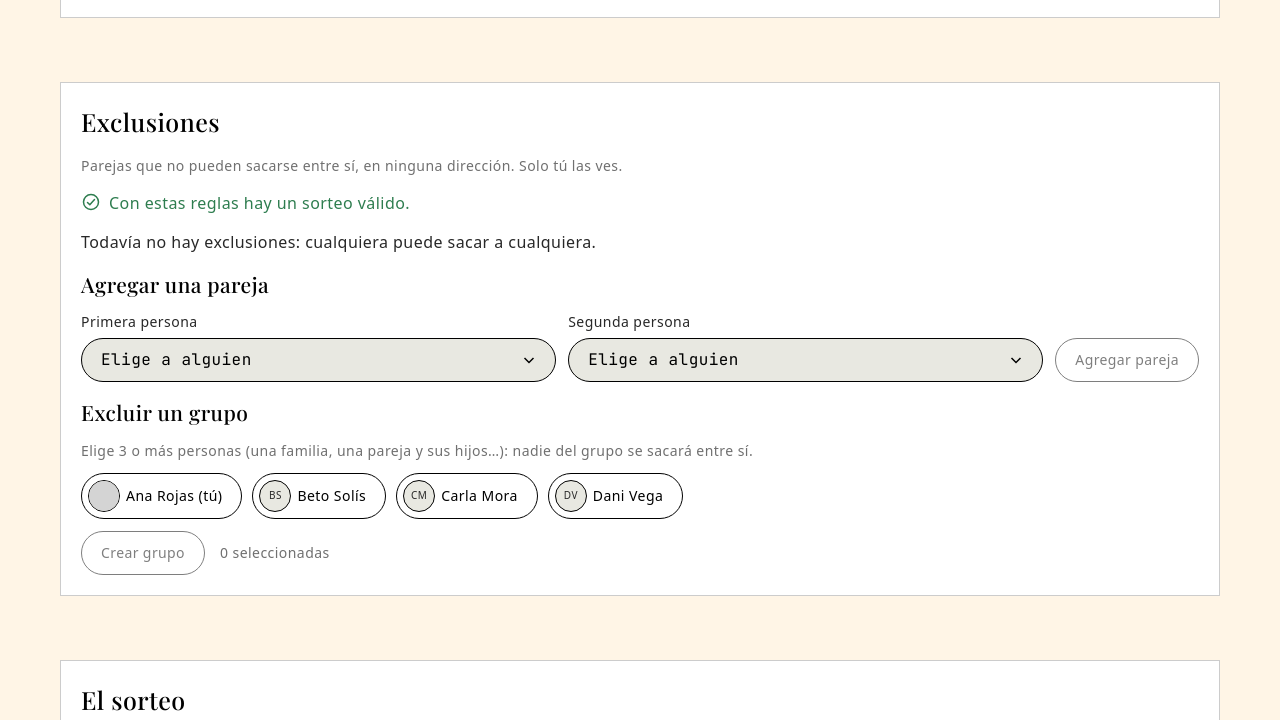
Scenario: Manage › Exclusions › Add pair: the same person cannot be picked twice, and it posts both ids
(page scrolled)
expect the button "Agregar pareja" is disabled: met, box [1055,338,1199,382]
Select "Beto Solís" in the dropdown labelled "Primera persona": (319, 360) [81,338,556,382]
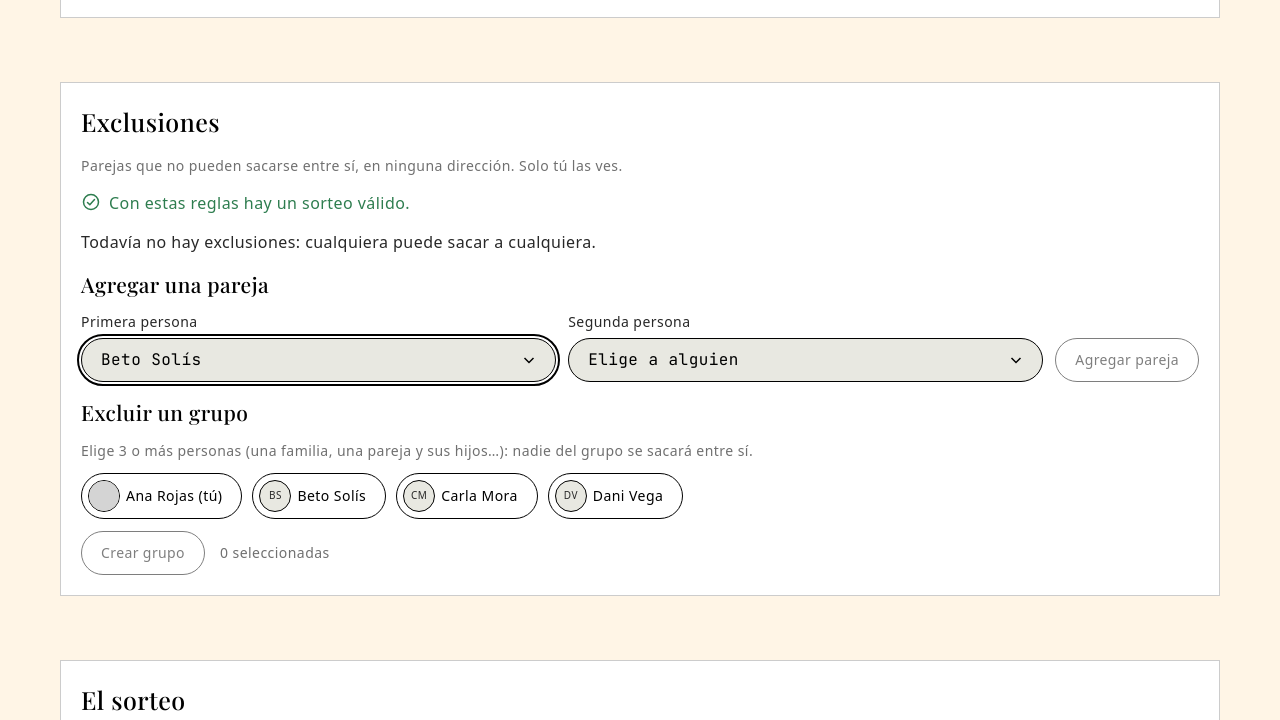
Select "Carla Mora" in the dropdown labelled "Segunda persona": (806, 360) [568,338,1043,382]
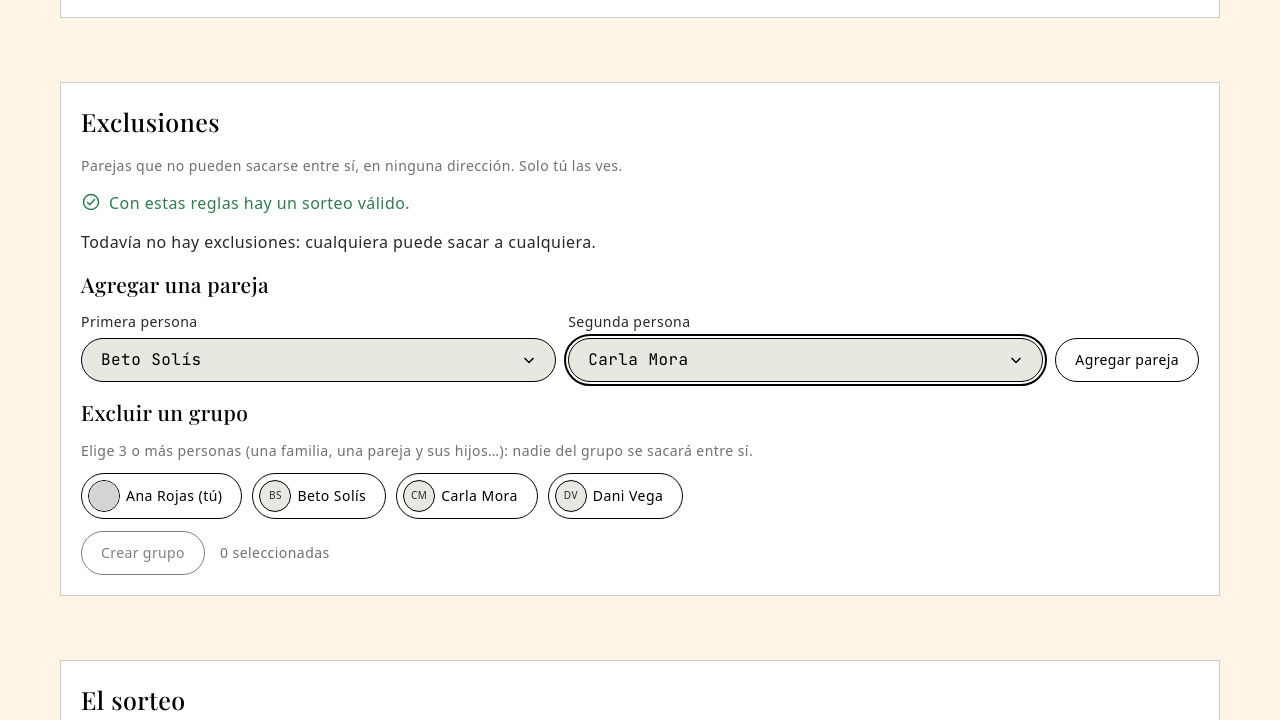
Click the button "Agregar pareja": click(1127, 360) [1055,338,1199,382]
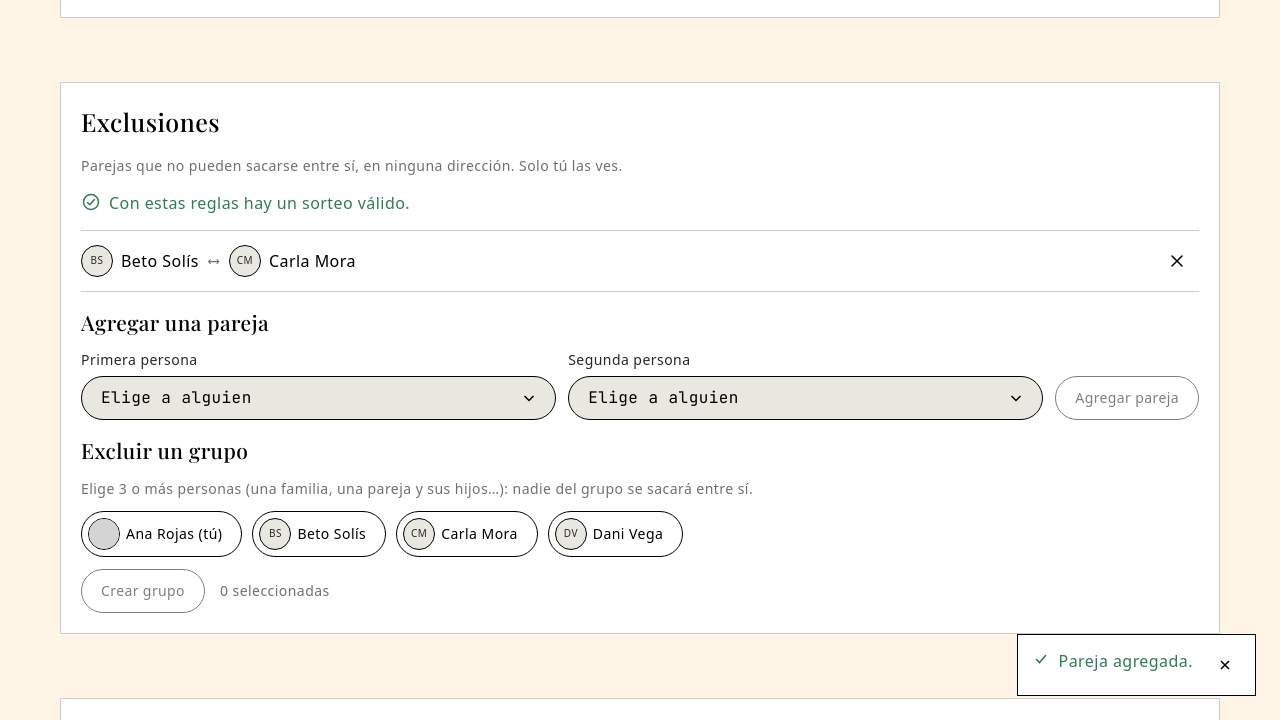
expect the text "Pareja agregada." is shown: met, box [1058,649,1193,673]
